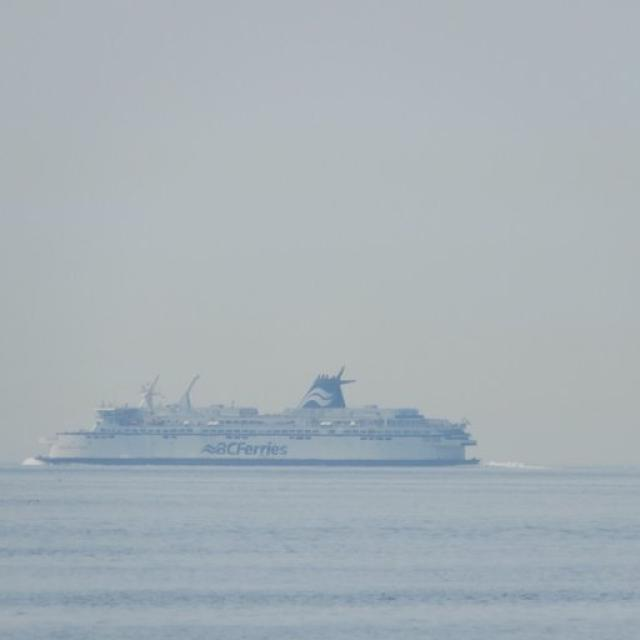passenger ship: (34, 371, 473, 473)
